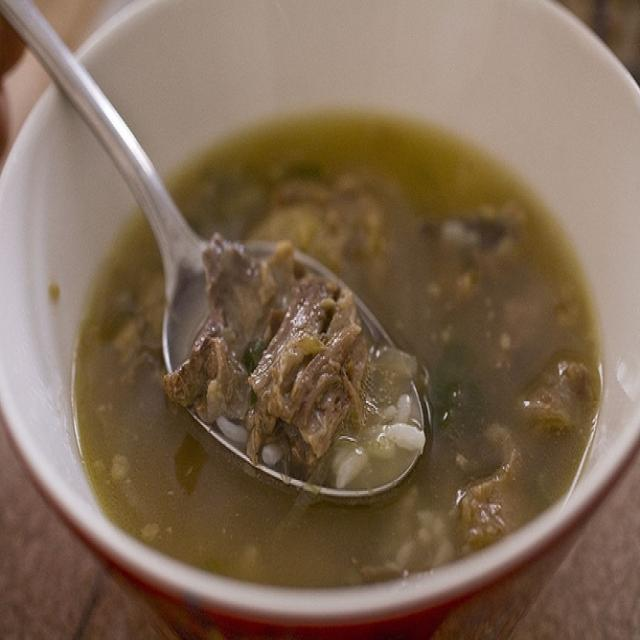汤锅炖物: (33, 47, 592, 607)
